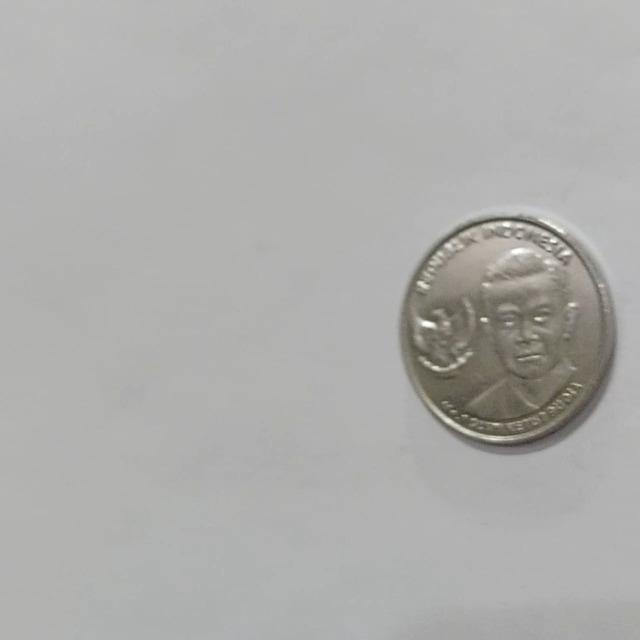Rp100: (398, 210, 616, 447)
